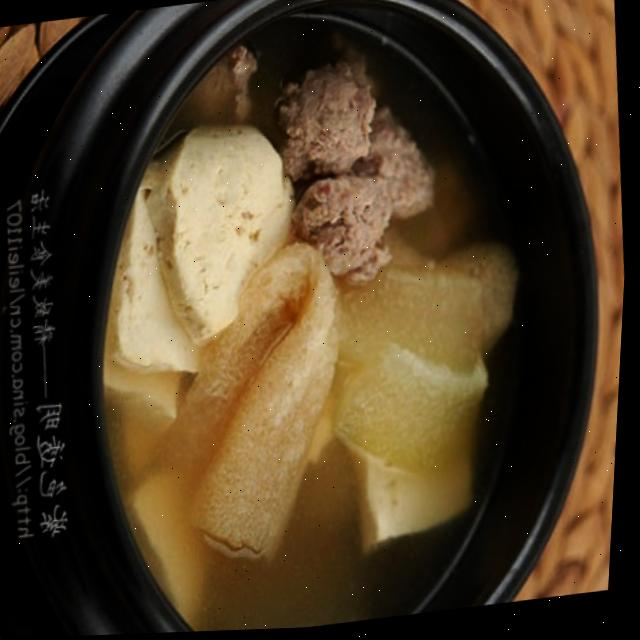汤锅炖物: (31, 0, 613, 638)
